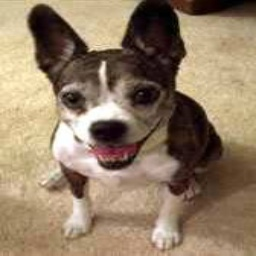dog: (27, 4, 223, 250)
